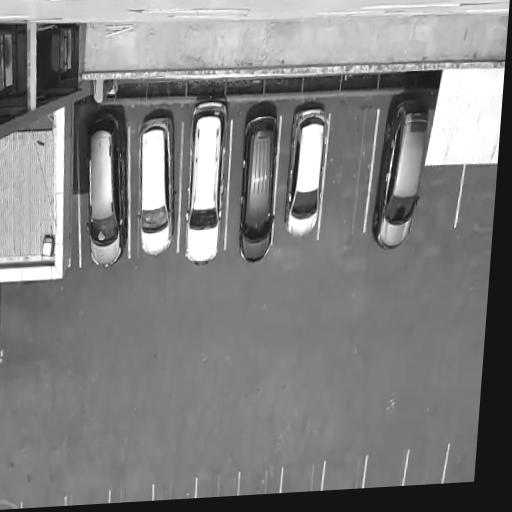Car: (75, 112, 139, 279), (371, 94, 435, 254), (183, 95, 237, 265), (129, 113, 185, 260), (236, 103, 284, 273), (282, 112, 329, 240)
Space Available: (317, 109, 379, 239), (411, 165, 464, 237), (459, 164, 498, 227), (406, 437, 450, 485), (364, 444, 409, 488), (321, 450, 368, 491), (279, 456, 325, 493), (238, 461, 282, 494), (444, 440, 477, 483), (195, 470, 241, 496), (152, 475, 199, 498), (109, 480, 154, 501), (66, 488, 111, 506), (22, 494, 66, 508), (0, 499, 22, 510)
